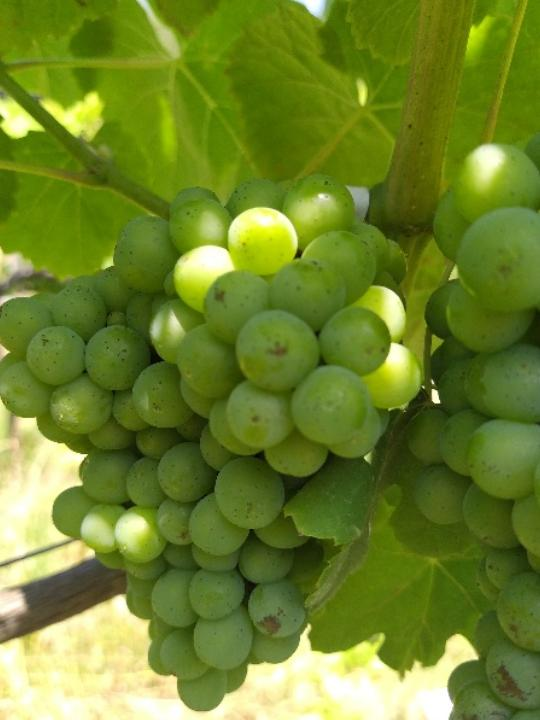grape: (0, 174, 422, 712)
